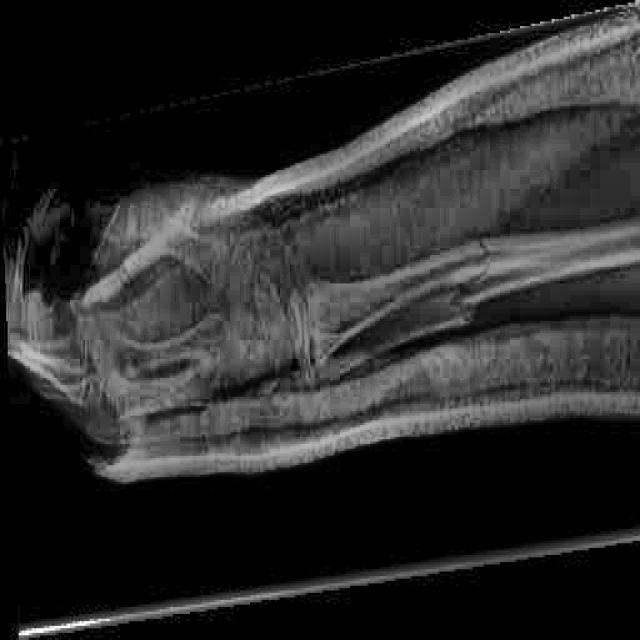forearm fracture: (427, 192, 530, 355)
